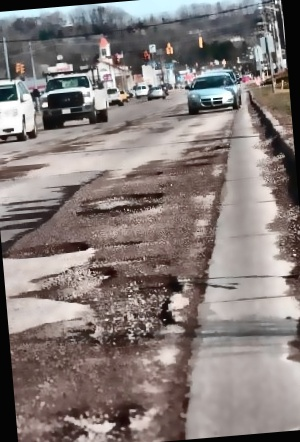pothole: (87, 269, 190, 351), (56, 401, 141, 442), (43, 263, 118, 303), (76, 200, 165, 225), (3, 238, 95, 262), (83, 189, 165, 203), (125, 168, 166, 181)
